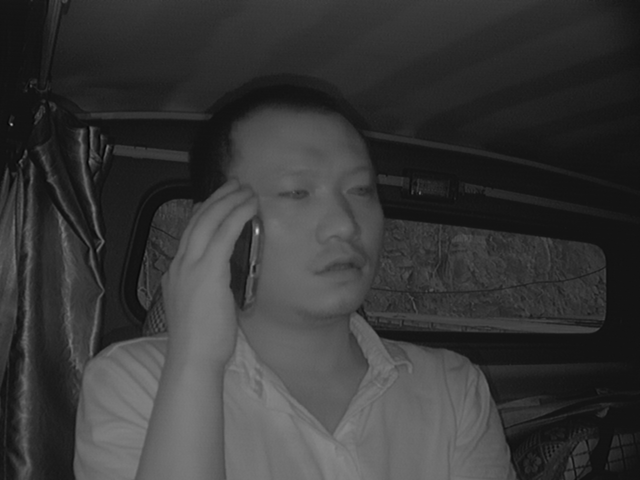hand: (160, 183, 267, 363)
